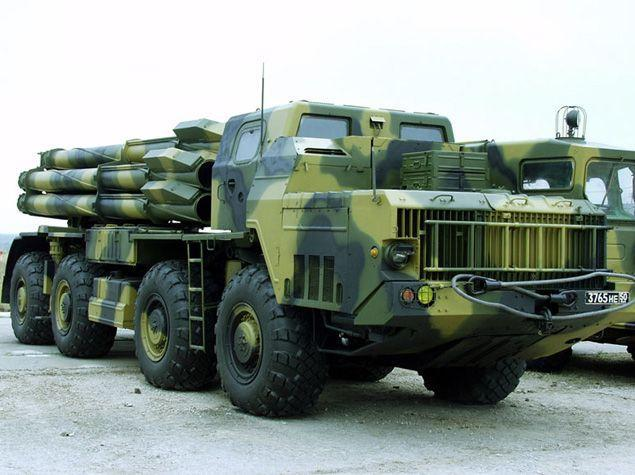rszo: (9, 95, 635, 434)
